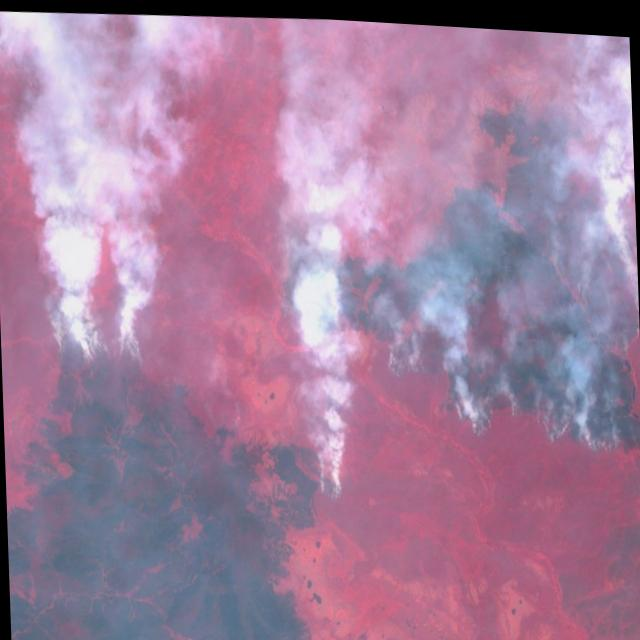fire: (271, 160, 640, 514), (36, 293, 145, 378)
